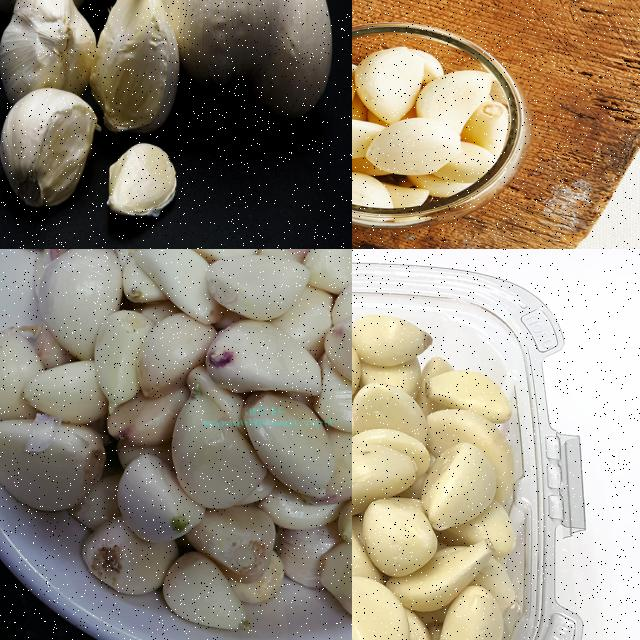garlic: (0, 249, 351, 637), (352, 312, 514, 639), (352, 40, 514, 215), (132, 0, 337, 122), (0, 84, 102, 210), (87, 0, 176, 131), (0, 0, 97, 98), (104, 140, 178, 222)
